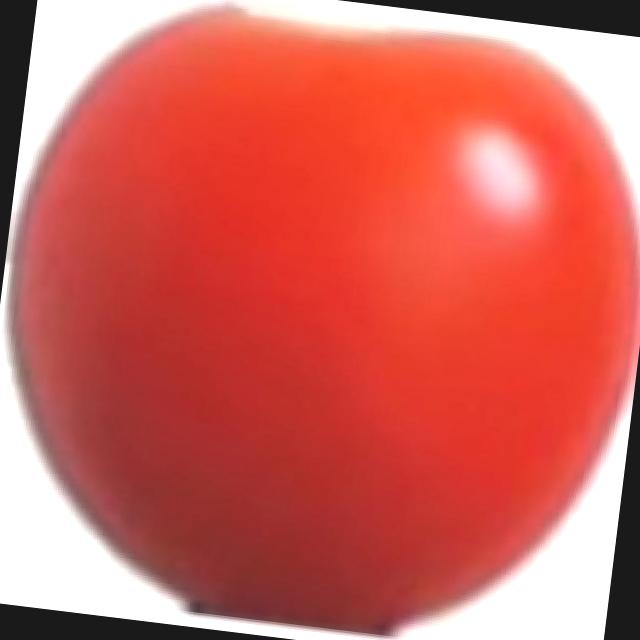tomato: (6, 4, 640, 639)
